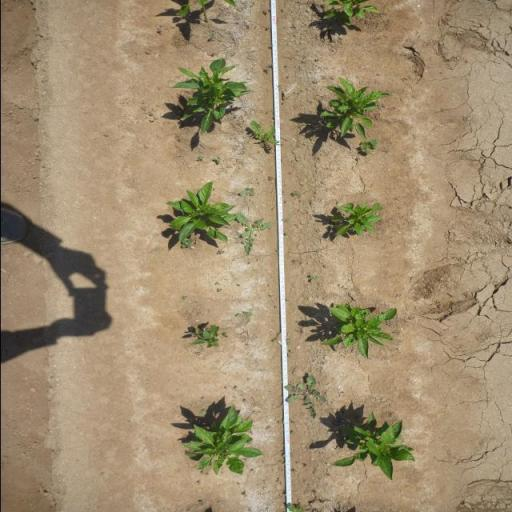plant: (167, 54, 257, 134), (329, 406, 417, 483), (178, 404, 267, 475), (158, 179, 236, 245), (318, 300, 400, 360), (317, 75, 391, 139), (326, 199, 385, 238), (319, 0, 383, 29), (188, 323, 230, 348)
weed: (284, 373, 330, 418), (234, 210, 272, 256), (249, 120, 279, 146), (357, 138, 378, 156), (285, 501, 304, 512), (238, 186, 254, 196), (234, 311, 252, 319), (180, 239, 194, 249), (307, 274, 320, 282), (195, 156, 205, 162), (261, 7, 271, 13), (290, 190, 298, 197), (208, 33, 216, 40), (217, 249, 225, 255), (291, 258, 299, 264), (284, 338, 291, 344), (264, 65, 270, 72), (301, 463, 309, 468), (198, 409, 206, 414), (240, 492, 248, 497), (266, 176, 274, 181), (288, 418, 294, 424), (232, 384, 238, 390), (198, 500, 204, 506), (214, 157, 220, 163), (156, 28, 162, 34), (180, 296, 188, 300), (286, 352, 291, 358), (282, 217, 288, 222), (194, 352, 201, 356), (290, 430, 294, 436), (271, 339, 277, 343), (284, 298, 290, 302), (214, 281, 220, 285), (222, 386, 228, 390), (280, 6, 284, 12), (216, 289, 223, 292), (278, 84, 281, 91), (283, 232, 288, 236), (176, 137, 180, 142), (276, 478, 279, 484), (288, 350, 294, 353), (282, 64, 288, 67), (195, 481, 200, 484), (290, 470, 297, 472), (268, 295, 274, 297), (200, 396, 204, 399), (198, 472, 204, 474), (283, 200, 287, 203), (355, 158, 360, 160), (235, 284, 240, 286), (280, 450, 284, 452), (206, 472, 208, 476), (243, 400, 246, 402), (274, 306, 276, 308)
